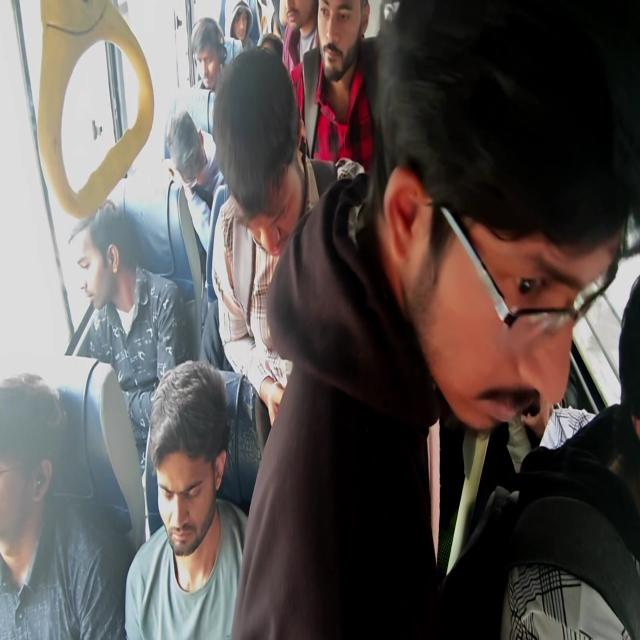person: (406, 48, 640, 430), (8, 401, 105, 626), (136, 392, 232, 596), (73, 227, 154, 365), (578, 308, 638, 482), (243, 112, 300, 282), (155, 123, 216, 193), (318, 6, 360, 86), (227, 0, 276, 50), (260, 22, 295, 65), (184, 32, 218, 73)
